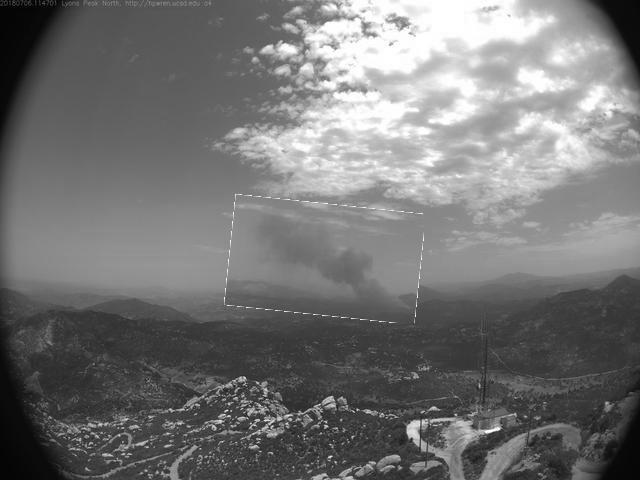smoke: (228, 200, 424, 321)
